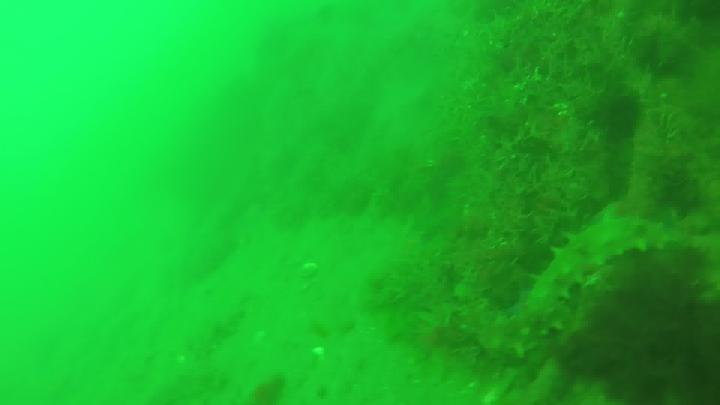holothurian: (463, 214, 719, 355)
scallop: (312, 345, 332, 365), (302, 263, 320, 279)
